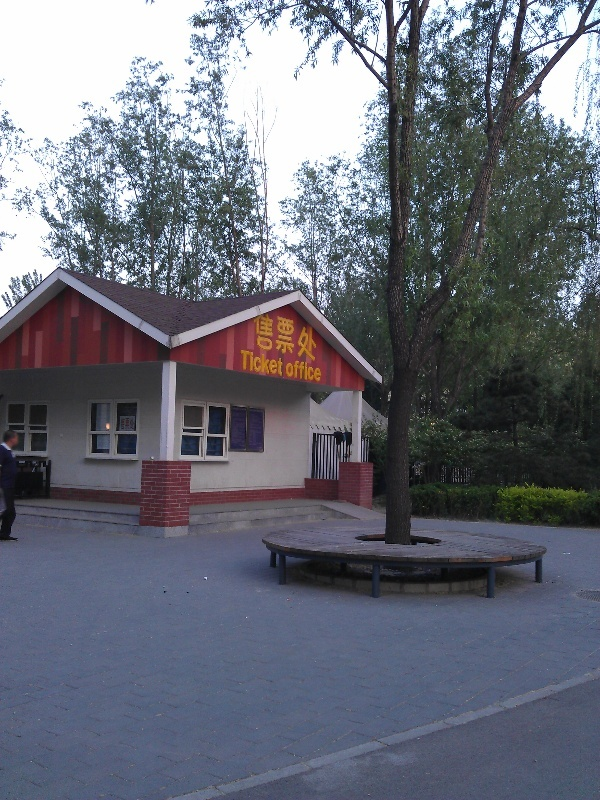text: (257, 309, 272, 363), (273, 309, 288, 363), (289, 309, 304, 363), (305, 309, 317, 363), (241, 348, 256, 378), (257, 348, 272, 378), (289, 358, 304, 383), (305, 358, 320, 383), (273, 348, 285, 378), (121, 418, 128, 430), (129, 418, 135, 430), (255, 309, 256, 363), (286, 358, 288, 383), (321, 358, 323, 383)
